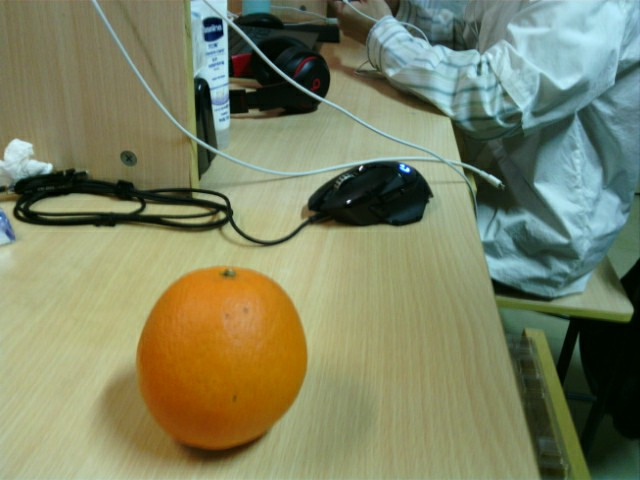normal_orange: (136, 268, 309, 447)
